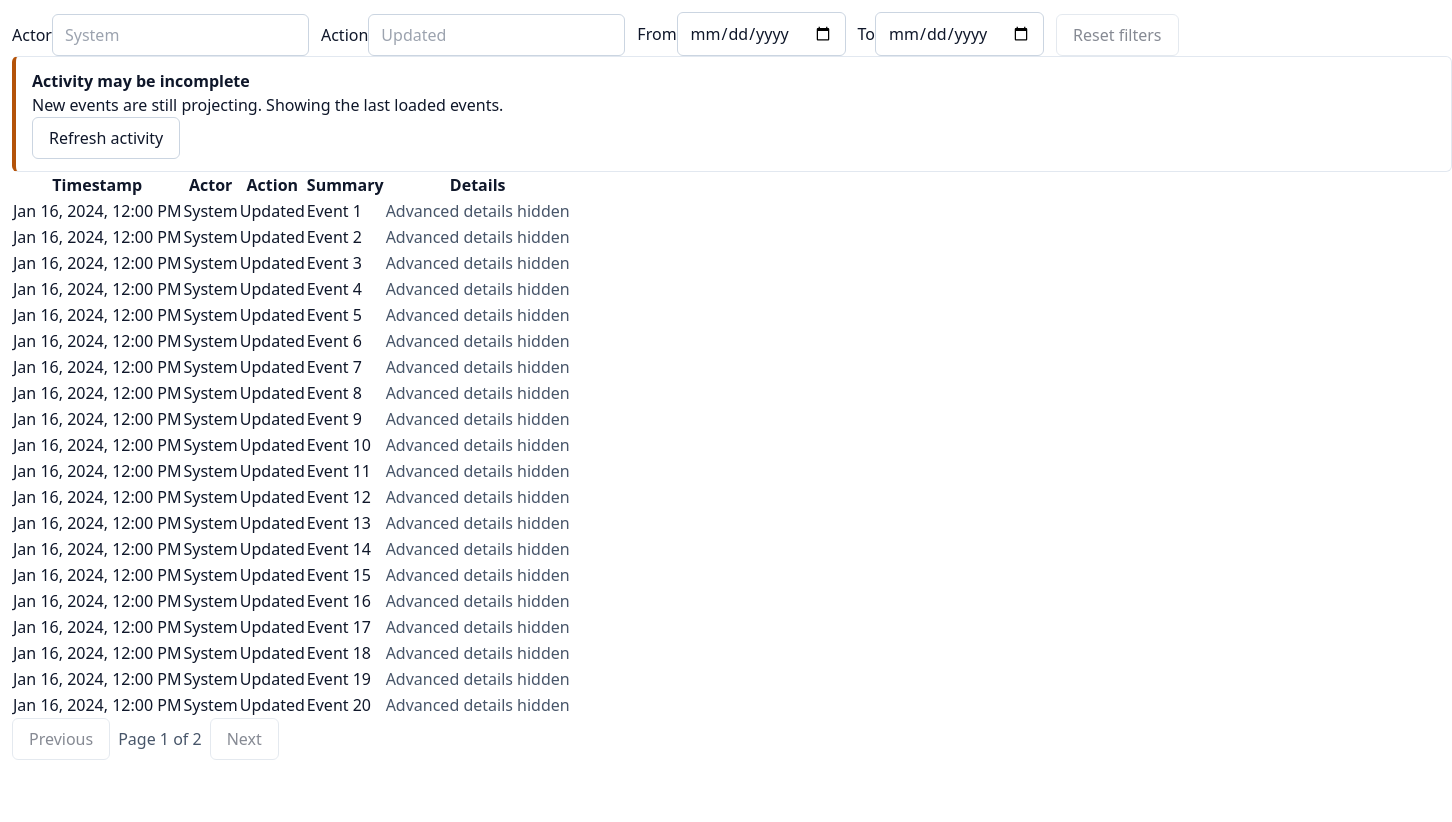
Test: AuditTimeline pagination cursors › refreshes background-partial data without losing rows (recovery: refresh)
expect the table with test id "activity-table" is shown: met, box [12,172,571,718]
expect the element with test id "activity-partial" is shown: met, box [12,56,1451,172]
Click the button with test id "activity-partial-refresh": (106, 138) [32,117,180,159]
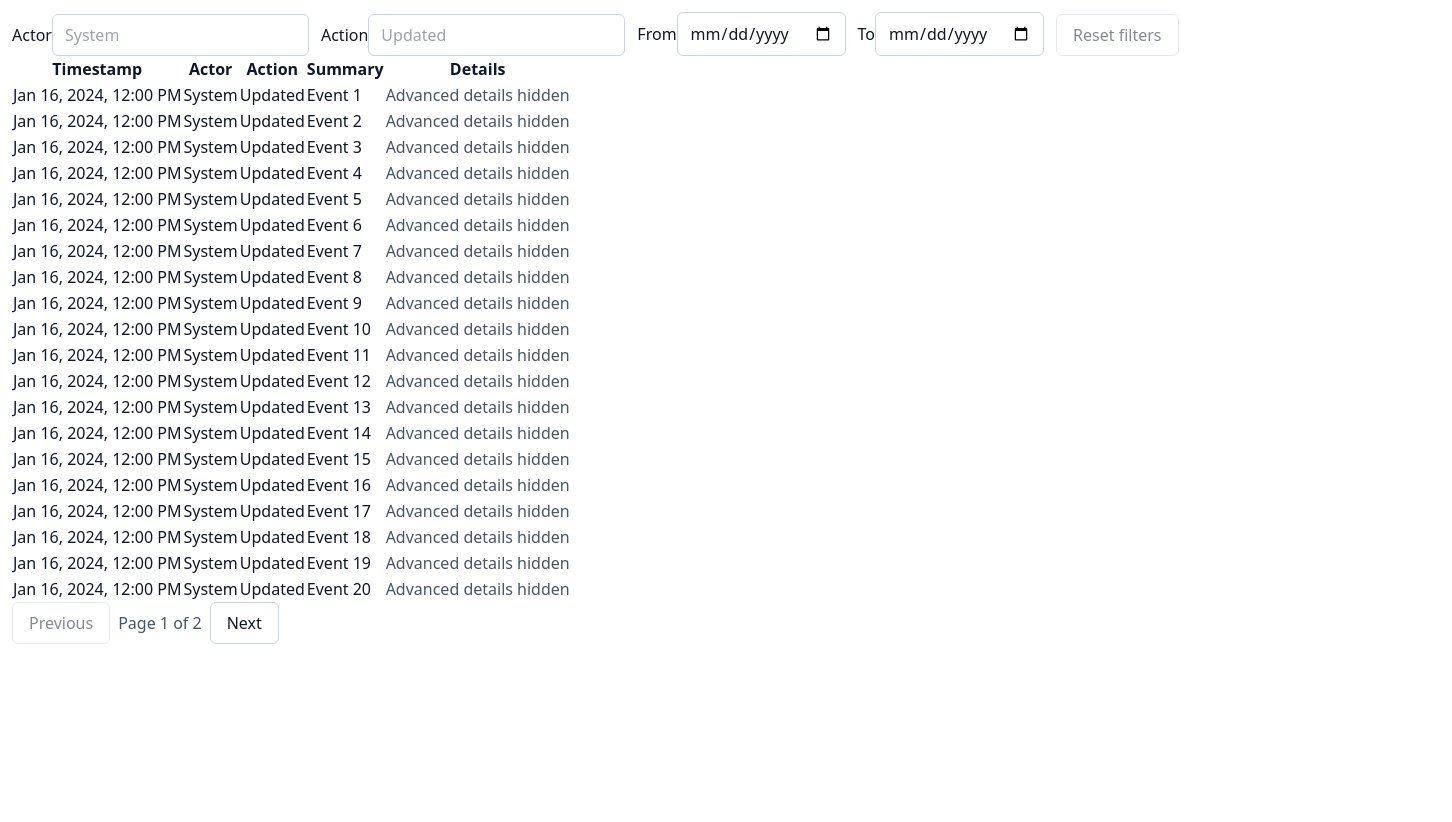
expect the element with test id "activity-partial" is gone: met
